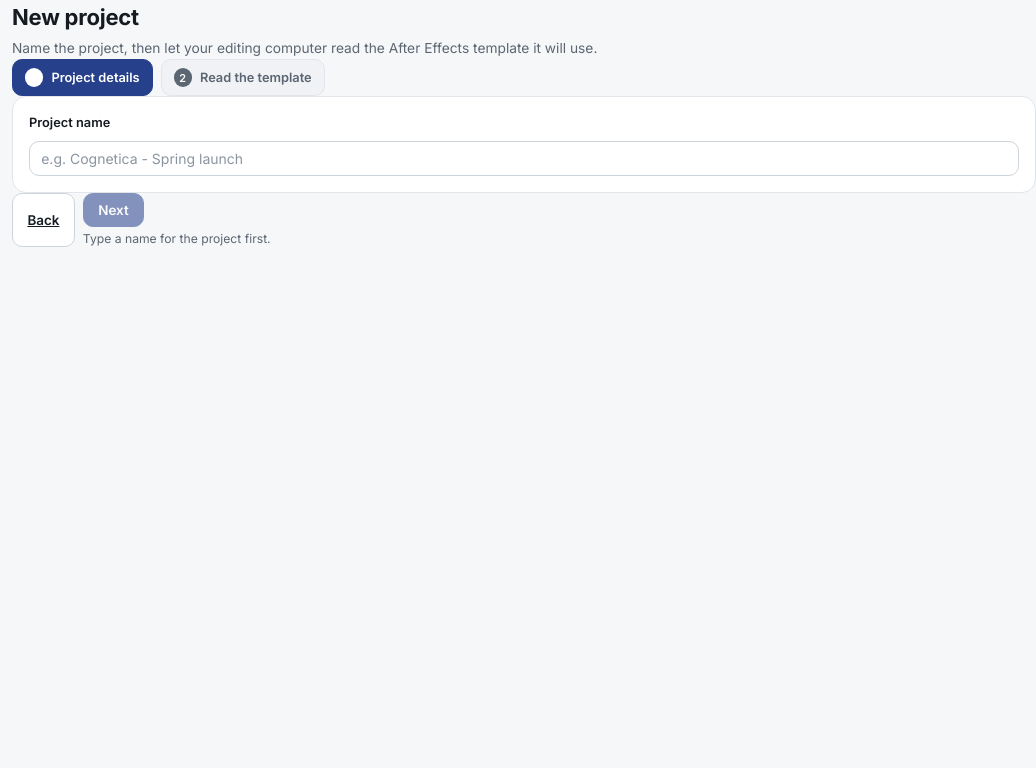
Test case: NewProjectWizard › disables Inspect Template until a real, fully-online eligible worker plus template fields are filled in
The image size is (1036, 768).
Type "Real Project" into the field labelled "Project name" at (524, 158), box [29,141,1019,176]
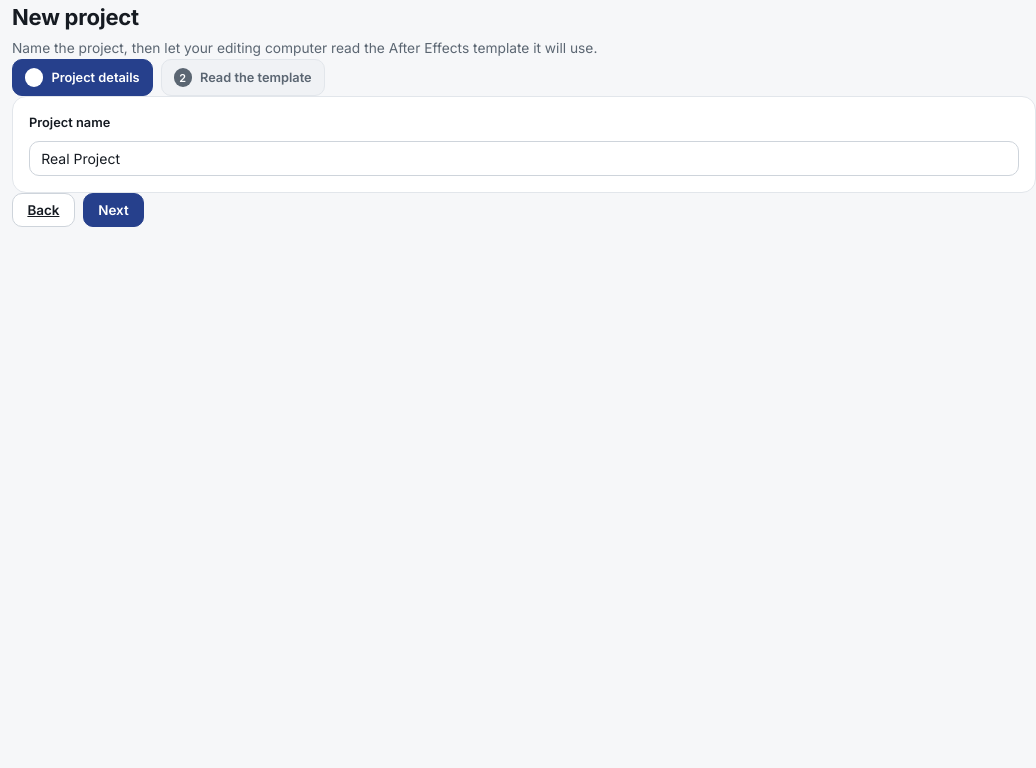
Click the button "Next" at (113, 210), box [83,193,144,227]
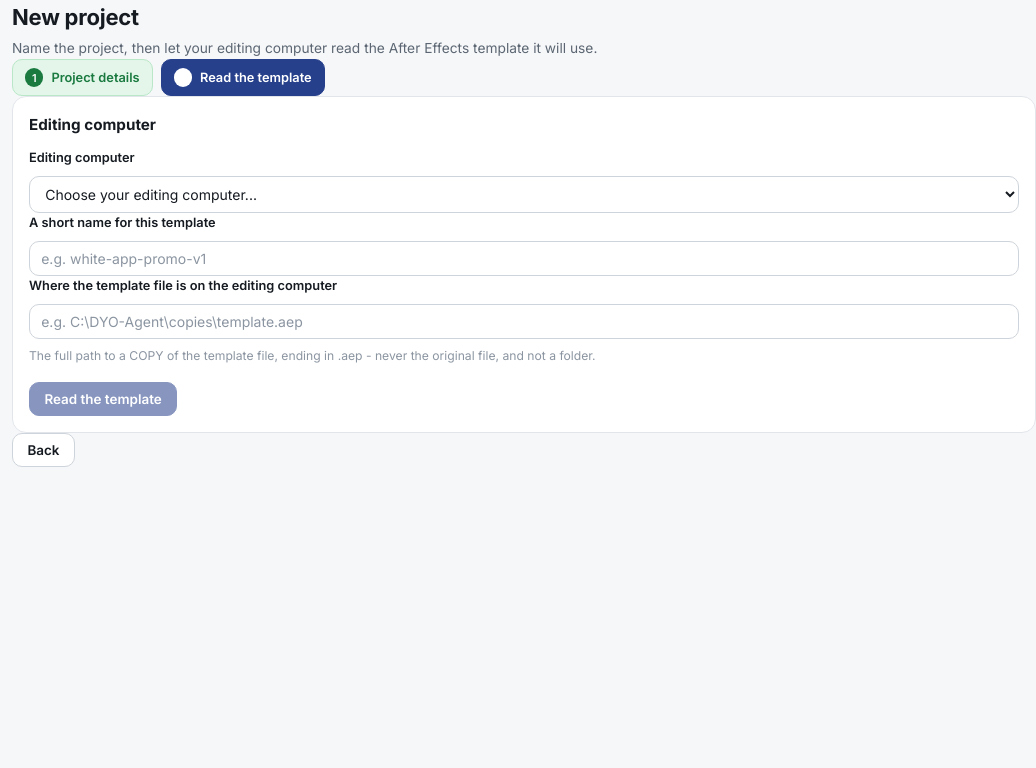
expect the button "Read the template" is disabled: met, box [29,382,177,416]
expect the dropdown is shown: met
Select "worker-a" in the dropdown at (524, 195), box [29,176,1019,213]
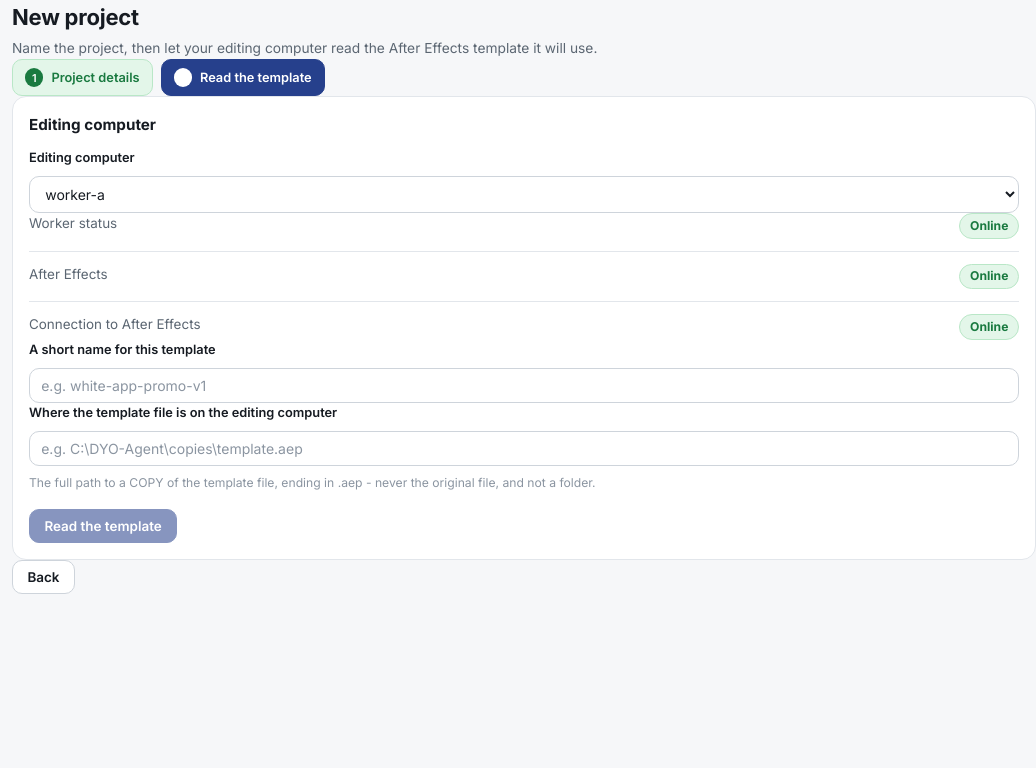
Type "tmpl-1" into the field labelled "A short name for this template" at (524, 385), box [29,368,1019,403]
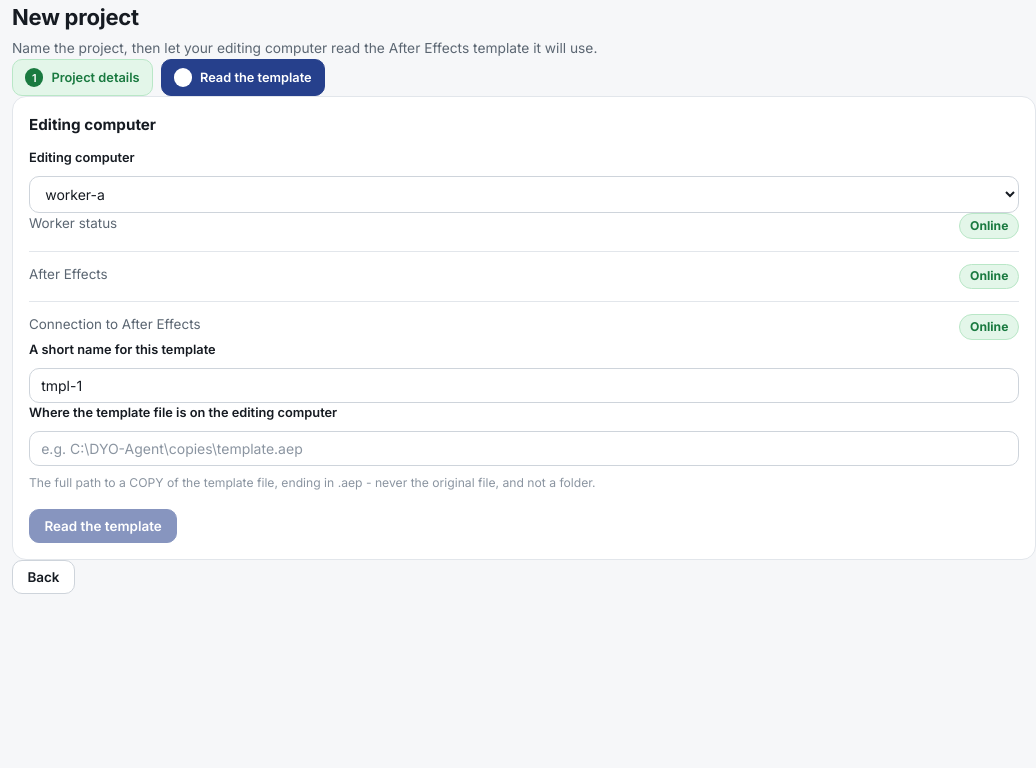
Type "/copies/t1.aep" into the field labelled "Where the template file is on the editing computer" at (524, 448), box [29,431,1019,466]
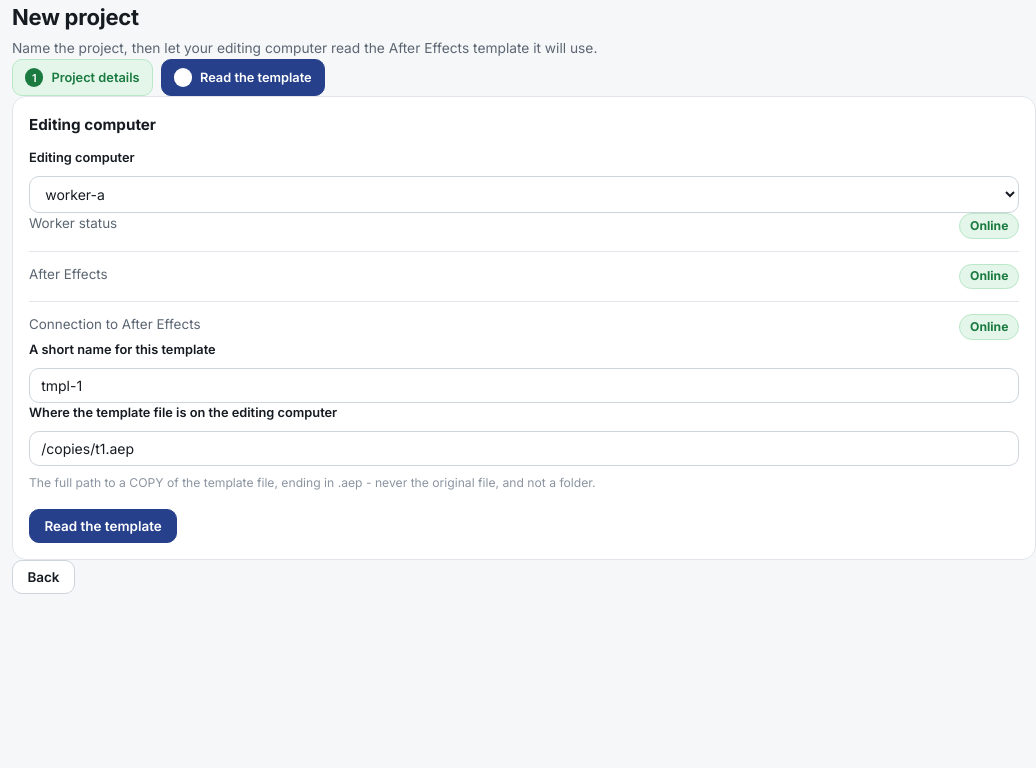
expect the button "Read the template" is enabled: met, box [29,508,177,543]
